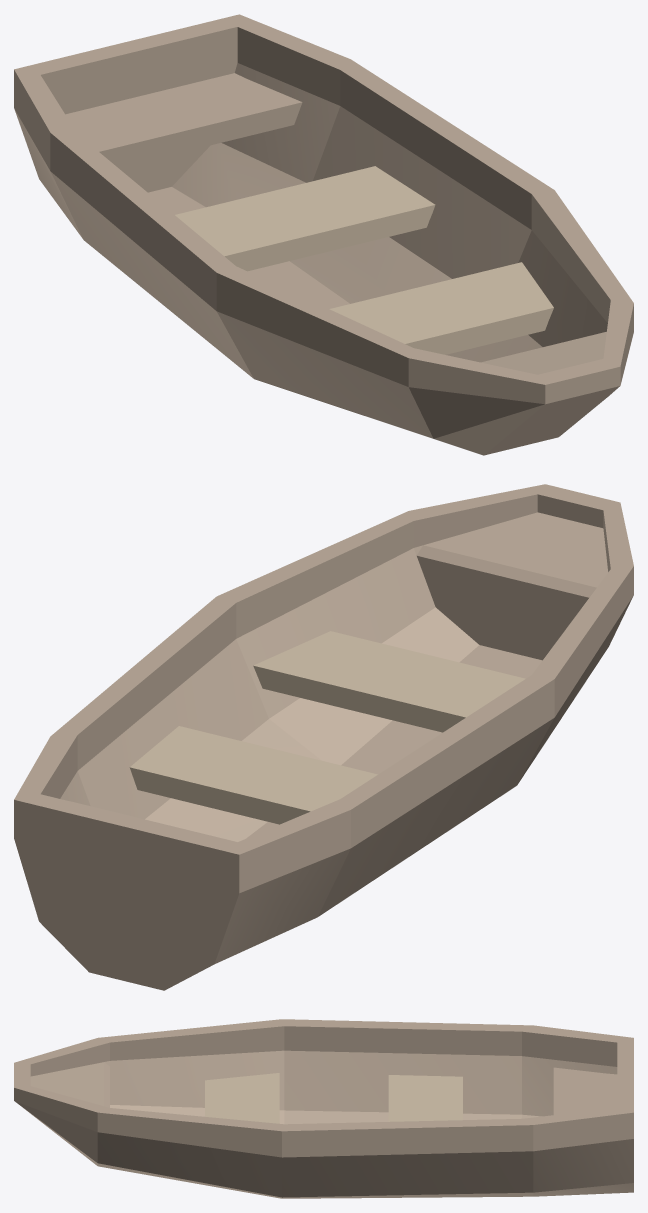
The model's file is bote2.glb.
3 views of the same model, one above another, from view 1: azimuth 30°, elevation 25°; view 2: azimuth 150°, elevation 25°; view 3: azimuth 270°, elevation 25° (orthographic). The views are drawn at different scales.
Parts seen in each view (by area): view 1: object4, object3, object1, object2; view 2: object4, object2, object3; view 3: object4, object3, object2, object1.
Part boxes in pixels (<box>): object4: <box>14,14,633,455</box>; object3: <box>175,166,435,271</box>; object1: <box>65,73,302,167</box>; object2: <box>329,262,553,354</box>; object4: <box>14,484,633,990</box>; object2: <box>253,631,525,732</box>; object3: <box>129,726,377,824</box>; object4: <box>14,1019,633,1198</box>; object3: <box>388,1075,462,1121</box>; object2: <box>205,1073,279,1123</box>; object1: <box>553,1067,617,1114</box>.
Size of the model in its own units: 1.07 by 0.4662 by 2.5.
